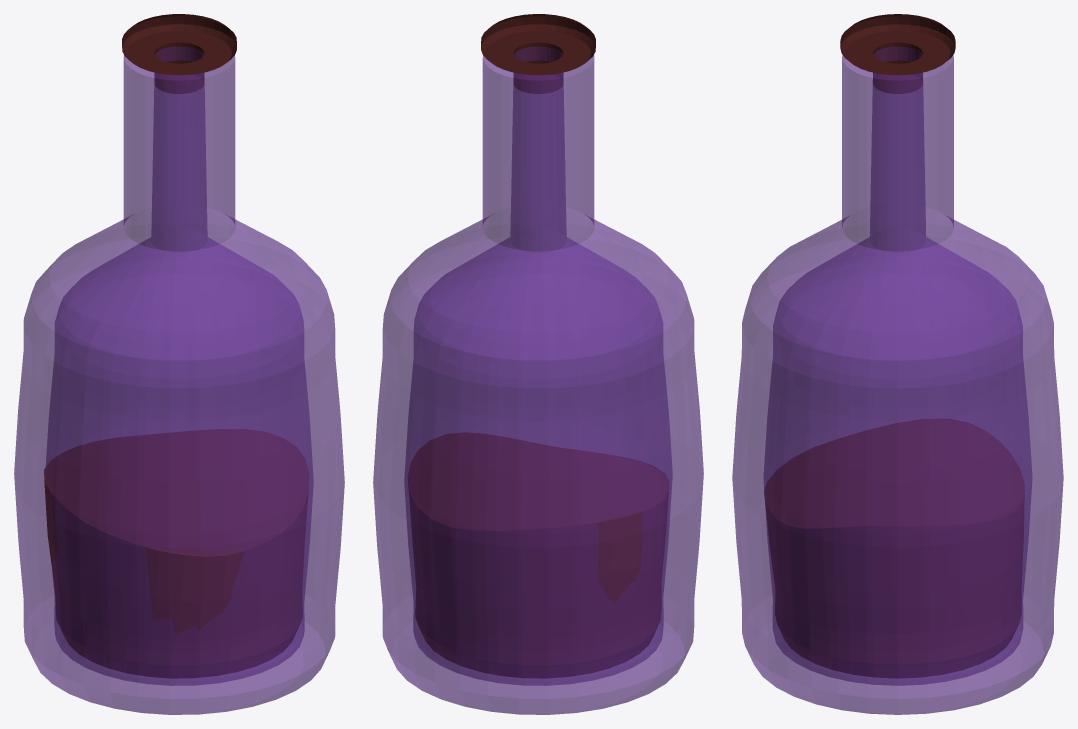
File: bottle3.fbx
3 views of the same model, side by side, from view 1: azimuth 30°, elevation 25°; view 2: azimuth 150°, elevation 25°; view 3: azimuth 270°, elevation 25° (orthographic).
Visible parts, largest first — view 1: Circle, Circle.001, Circle.002; view 2: Circle, Circle.001, Circle.002; view 3: Circle, Circle.001, Circle.002.
Boxes of the visible parts, left/top/right/bottom form: Circle: left=14, top=46, right=344, bottom=714; Circle.001: left=44, top=429, right=308, bottom=678; Circle.002: left=122, top=14, right=236, bottom=93; Circle: left=373, top=46, right=703, bottom=714; Circle.001: left=408, top=432, right=669, bottom=678; Circle.002: left=481, top=14, right=595, bottom=93; Circle: left=732, top=47, right=1063, bottom=714; Circle.001: left=764, top=419, right=1024, bottom=678; Circle.002: left=840, top=14, right=955, bottom=93.
Bounding box in the file's own units: 2.13 × 4.43 × 2.13.
